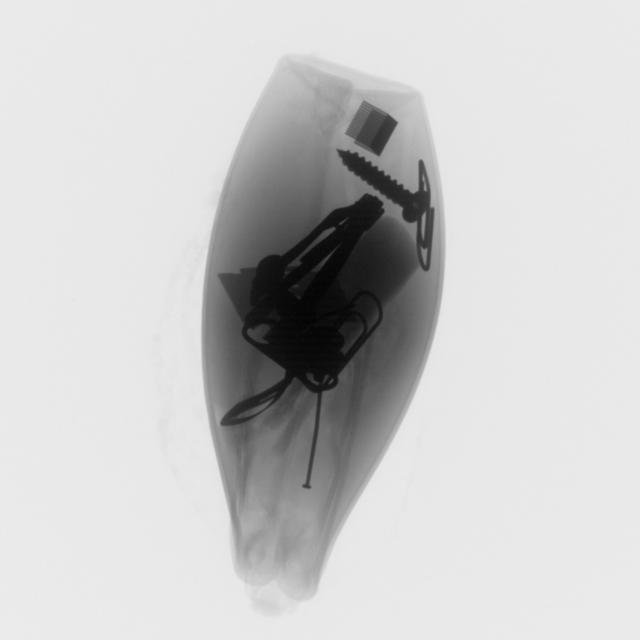razor: (339, 98, 401, 154)
snail: (335, 148, 431, 221), (296, 382, 324, 494)
